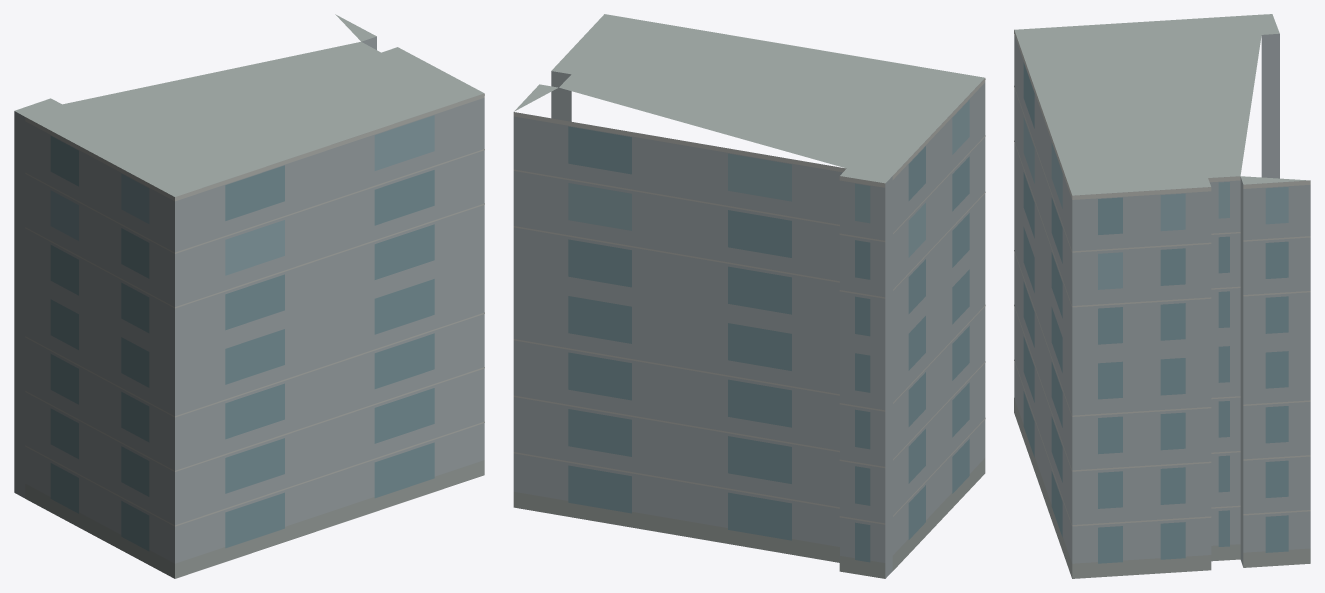
The model's file is survey-upis-32939414.glb.
The picture shows the model from 3 angles, left to right: view 1: azimuth 30°, elevation 25°; view 2: azimuth 150°, elevation 25°; view 3: azimuth 270°, elevation 25°; orthographic projection. The views are drawn at different scales.
Visible parts, largest first — view 1: survey-upis-32939414.tmp; view 2: survey-upis-32939414.tmp; view 3: survey-upis-32939414.tmp.
Part boxes in pixels (<box>): survey-upis-32939414.tmp: <box>14,14,484,578</box>; survey-upis-32939414.tmp: <box>513,14,985,578</box>; survey-upis-32939414.tmp: <box>1014,14,1310,578</box>.
Size of the model in its own units: 21.87 by 21.5 by 15.1.
